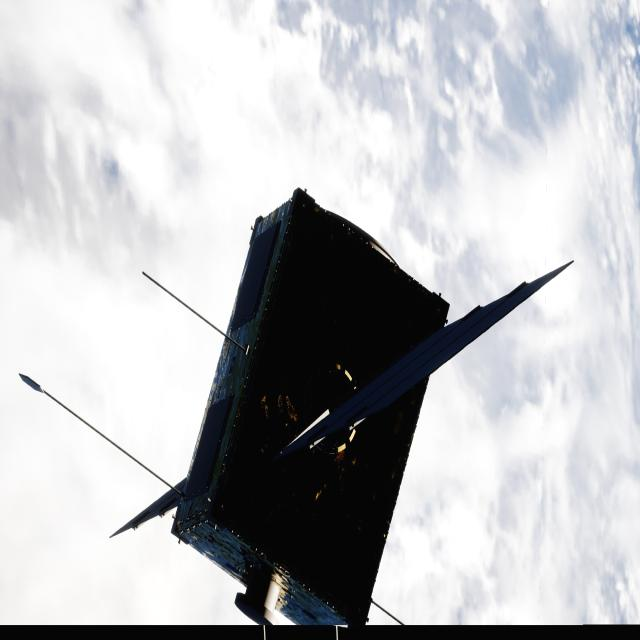medium_debris: (117, 189, 559, 630)
